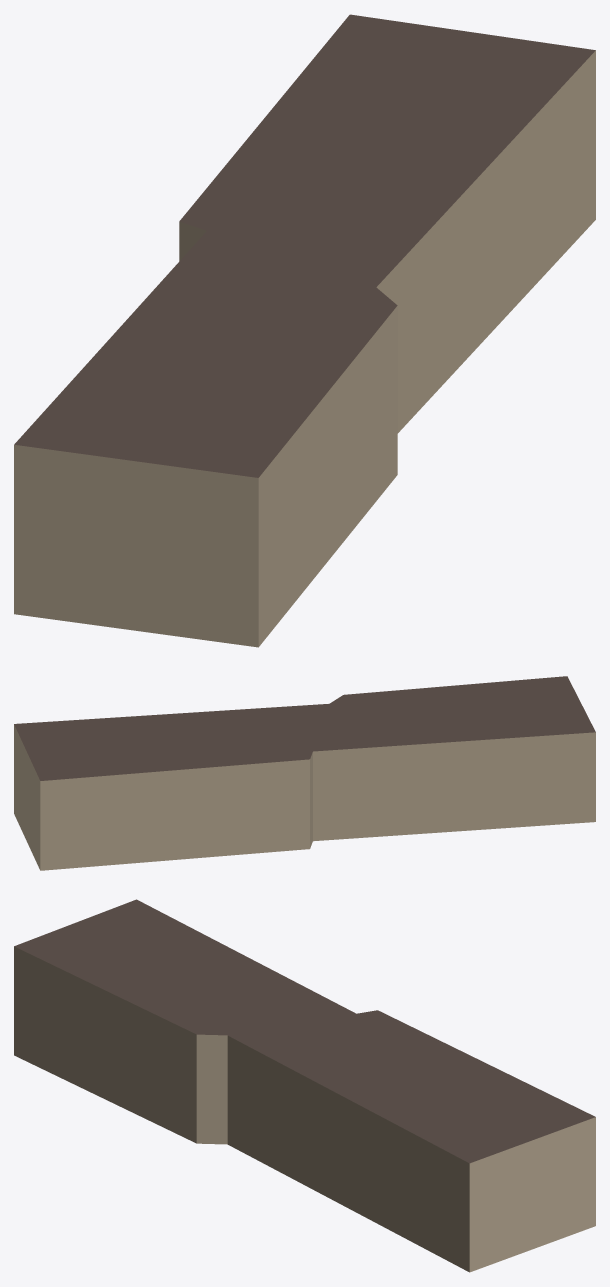
3 renders of one model, top to bottom at view 1: azimuth 30°, elevation 25°; view 2: azimuth 150°, elevation 25°; view 3: azimuth 270°, elevation 25°, orthographic. The views are drawn at different scales.
Parts seen in each view (by area): view 1: HP-w1515076938; view 2: HP-w1515076938; view 3: HP-w1515076938.
Boxes of the visible parts, <box> form: HP-w1515076938: <box>14,14,595,647</box>; HP-w1515076938: <box>14,676,595,870</box>; HP-w1515076938: <box>14,899,595,1272</box>.
Bounding box in the file's own units: 46.72 × 9 × 43.52.
